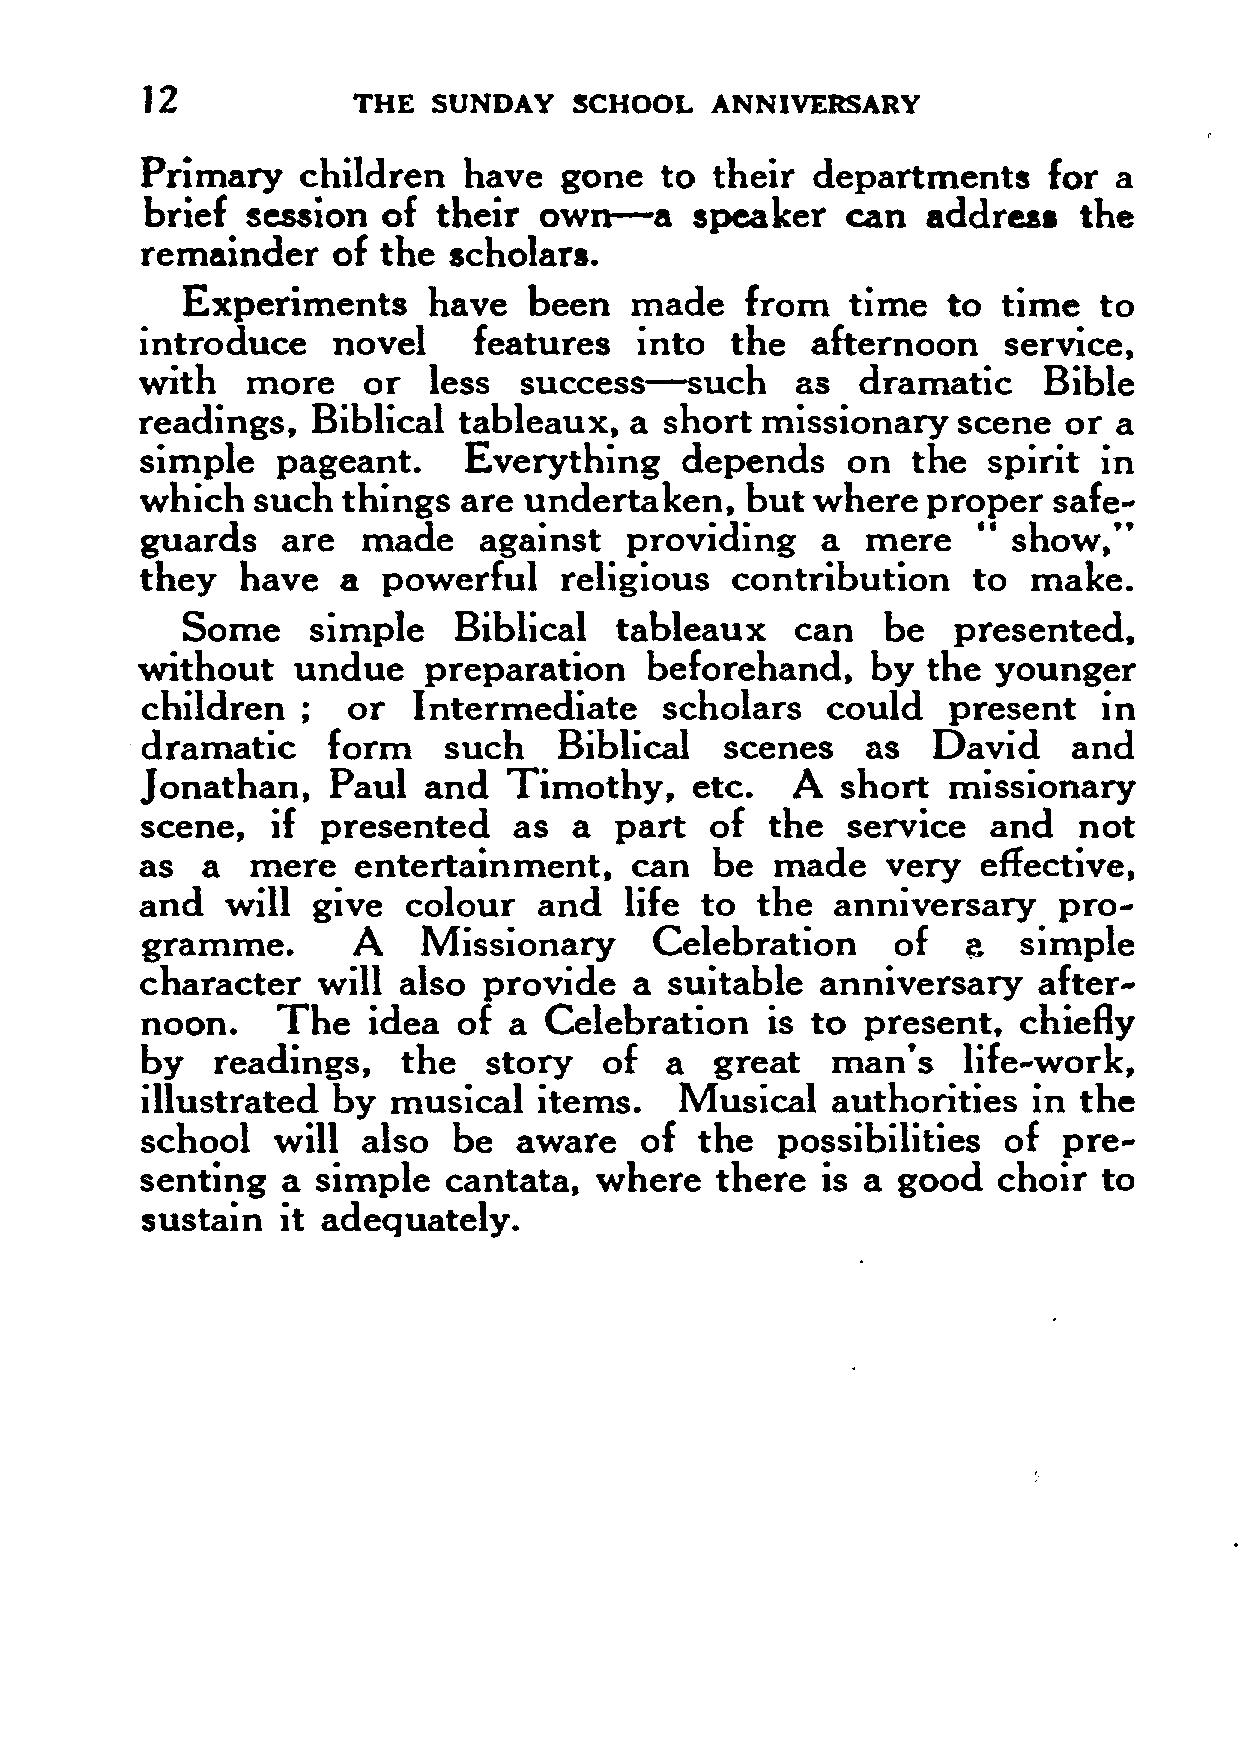content: (136, 152, 1143, 1241)
content_chapter: (349, 89, 921, 118)
content_pagenumber: (136, 81, 181, 113)
